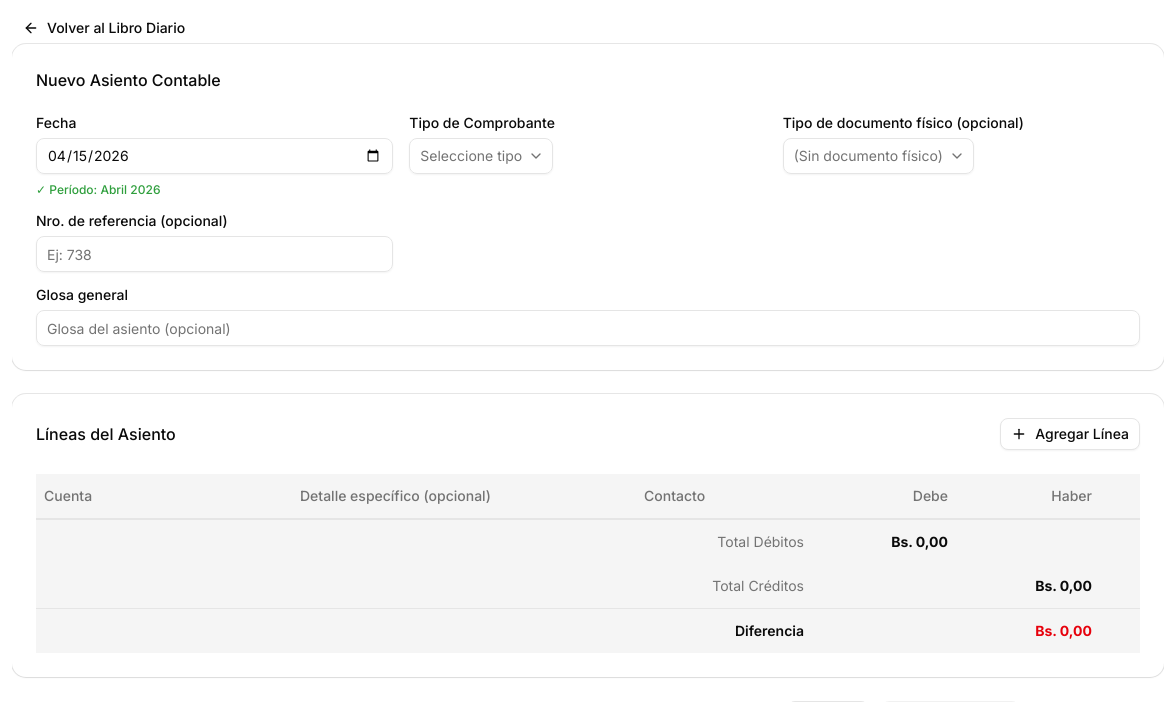
JF-T02 — Date change re-derives period › changing date to May updates the hint to the May period
The image size is (1176, 702).
Type "2026-05-15" into the date field labelled "Fecha".
click(215, 156); type("2026-05-15")  # box [36, 138, 393, 174]
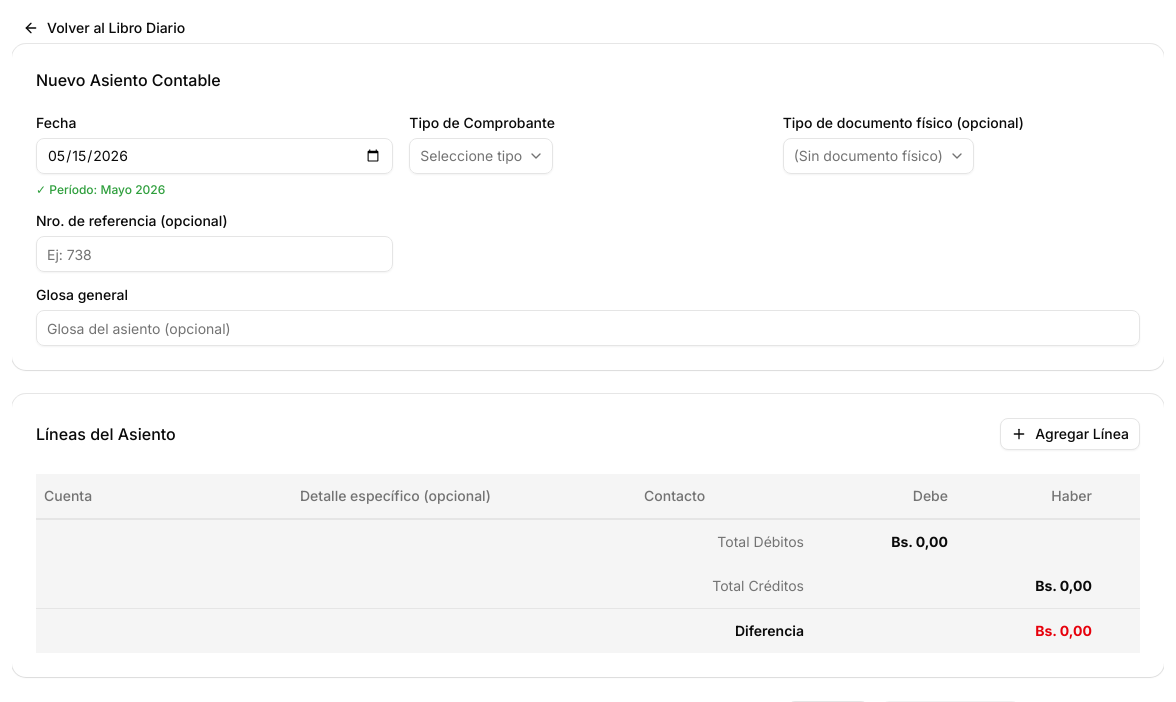
Check: the text with test id "period-hint" shows "Período: Mayo 2026", box [36, 182, 165, 197]
